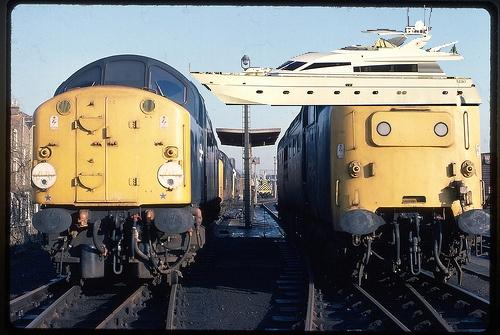tampered: (190, 6, 482, 106)
